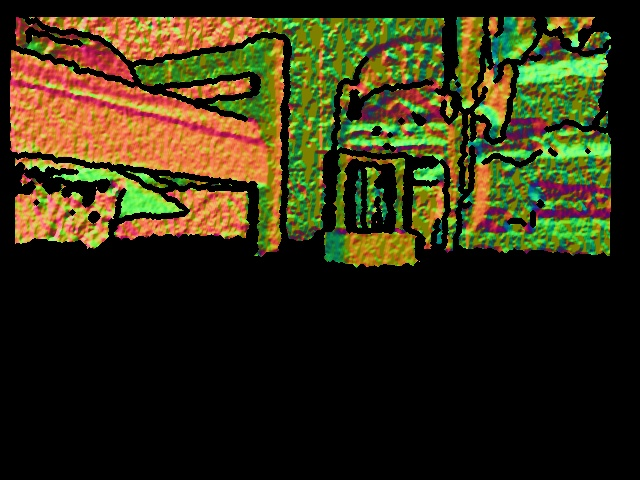station: (321, 149, 421, 266)
